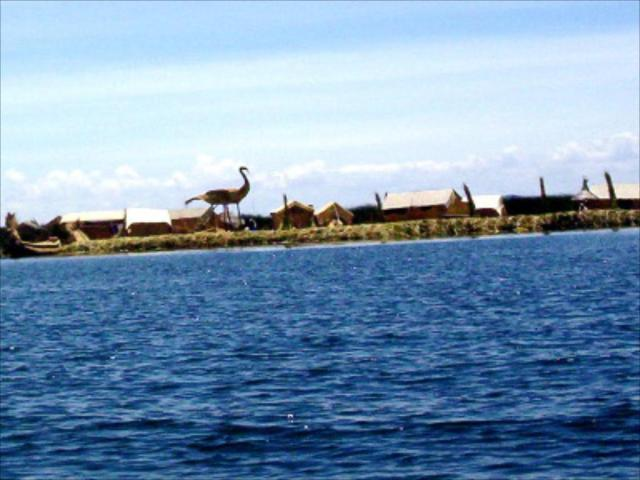Bird: (181, 162, 253, 228)
